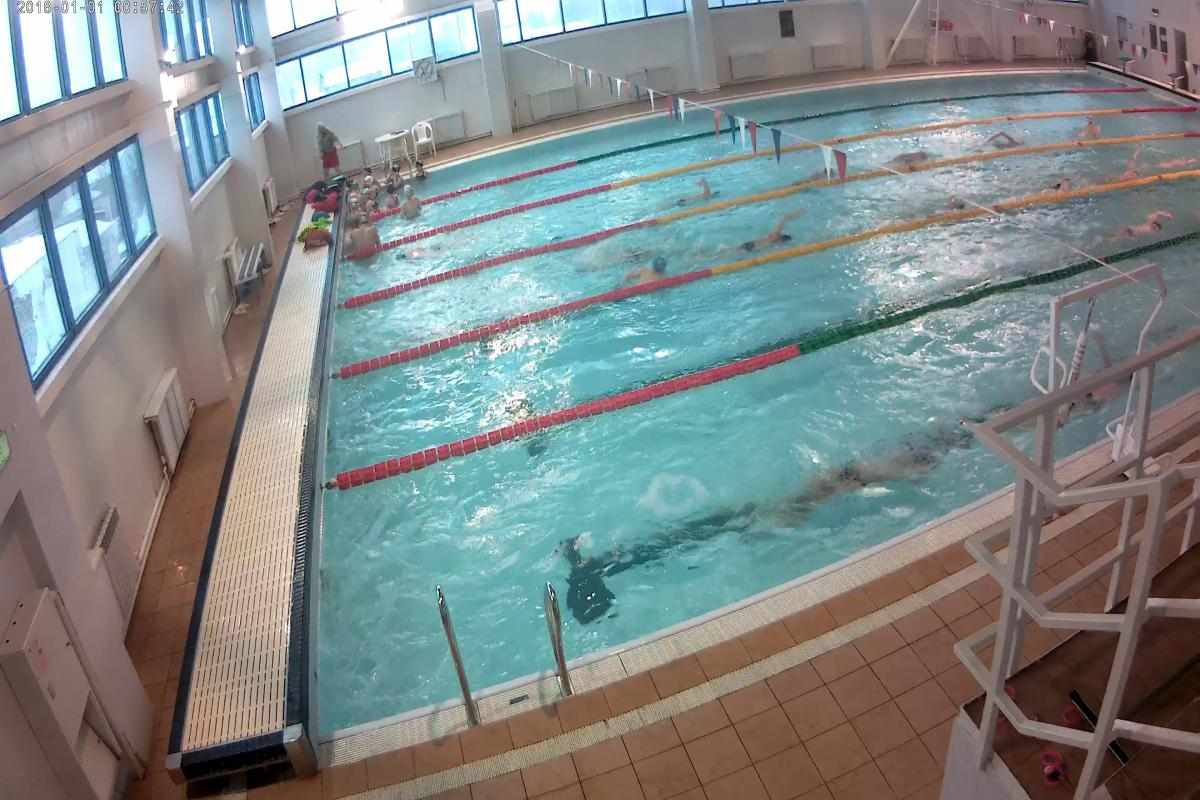swimmer: (773, 428, 943, 523), (734, 201, 812, 258), (1112, 204, 1176, 242), (626, 248, 676, 291), (674, 174, 726, 208), (1035, 164, 1088, 193), (1112, 142, 1148, 183), (983, 127, 1027, 148), (1074, 109, 1103, 139)
